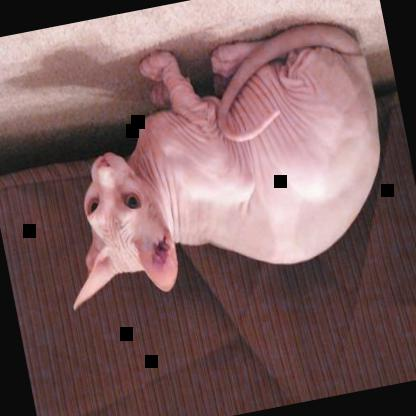cat: (26, 12, 404, 312)
